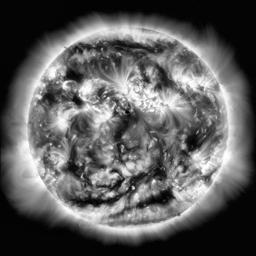solar flares: (171, 72, 210, 92), (116, 77, 141, 101), (93, 104, 114, 131), (143, 98, 173, 116), (79, 82, 100, 102), (53, 103, 68, 131), (191, 150, 204, 168)
sunspots: (140, 188, 175, 206), (112, 41, 156, 55), (116, 112, 134, 140), (66, 147, 82, 176), (76, 196, 115, 206), (66, 64, 85, 84), (187, 135, 208, 150), (155, 66, 169, 88), (151, 157, 164, 177), (78, 45, 107, 53), (42, 88, 57, 102), (128, 171, 143, 185)
